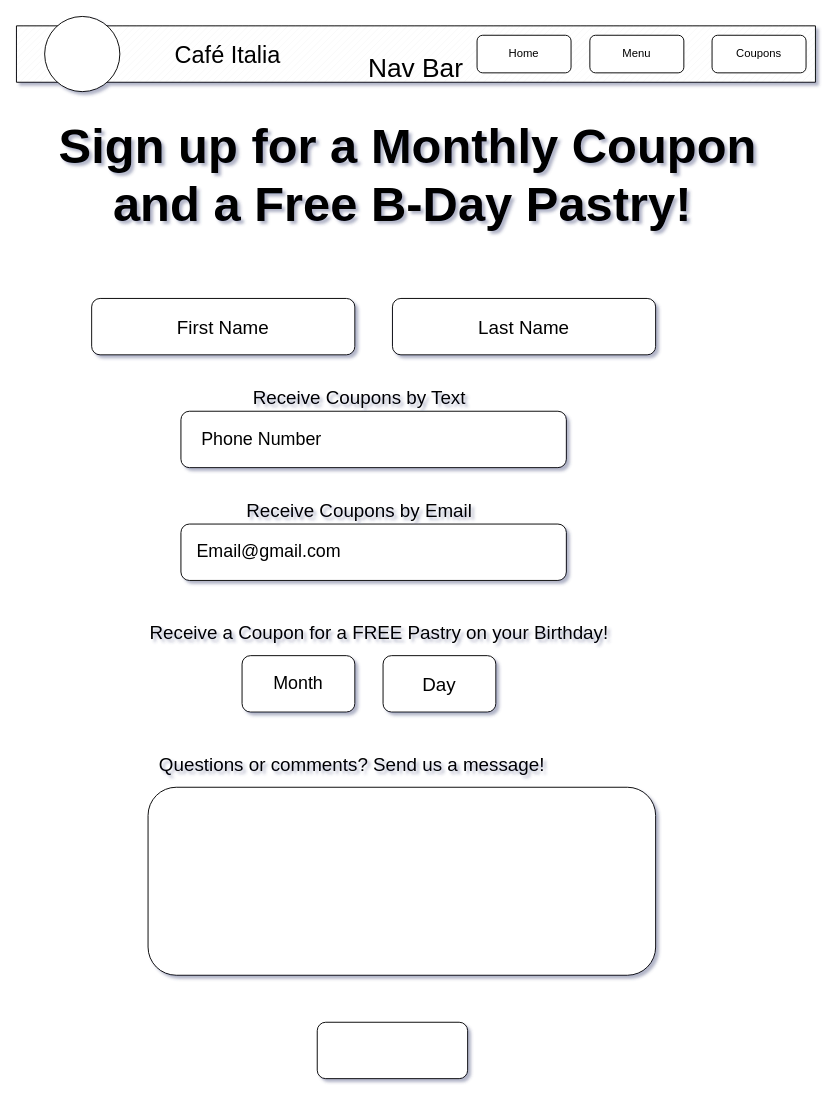
The diagram is 838 pixels wide and 1101 high, and some of its shapes have lost their labels. The centre of each missing label's shape, as x and y in pixels:
"Logo" belongs at point 82,54.
"Submit Button" belongs at point 392,1050.
